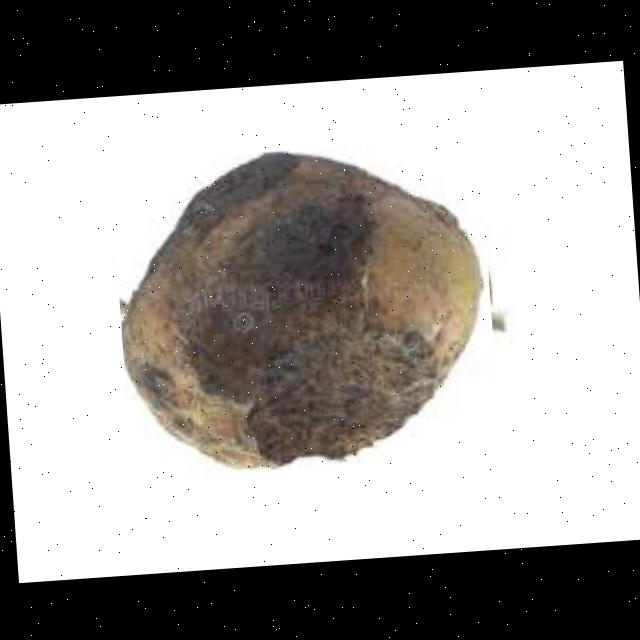Damaged potato: (108, 130, 501, 496)
